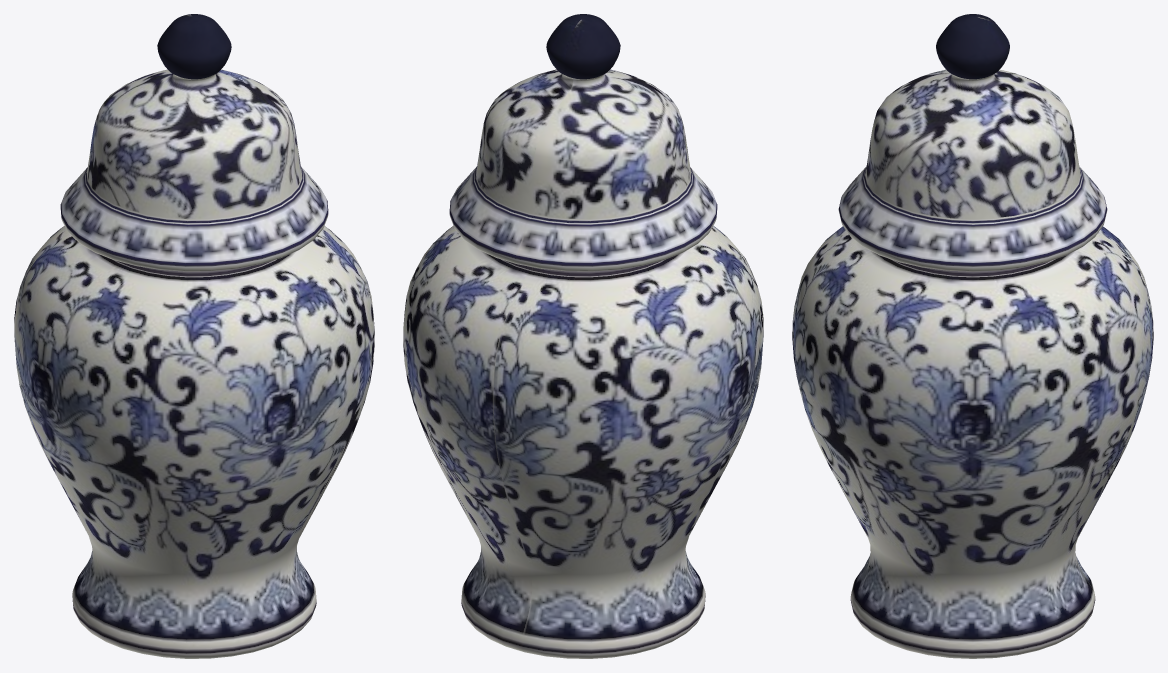
The model's file is Pot6.fbx.
3 views of the same model, side by side, from view 1: azimuth 30°, elevation 25°; view 2: azimuth 150°, elevation 25°; view 3: azimuth 270°, elevation 25° (orthographic).
Parts seen in each view (by area): view 1: Jar; view 2: Jar; view 3: Jar.
Boxes of the visible parts, left/top/right/bottom form: Jar: left=14, top=14, right=374, bottom=658; Jar: left=403, top=14, right=763, bottom=658; Jar: left=792, top=14, right=1153, bottom=658.
Size of the model in its own units: 20.26 by 36.75 by 20.26.
Materials: 1 (1 with a texture image).
